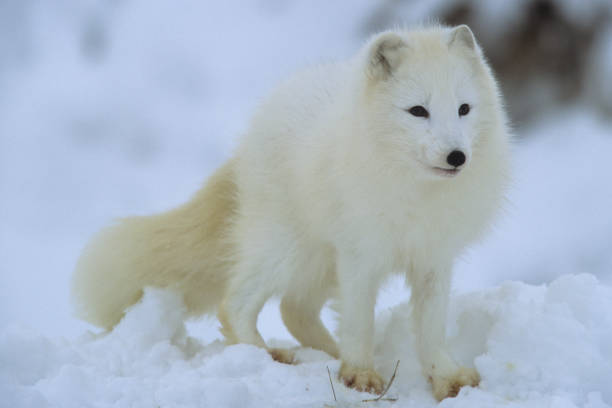arcticfox: (386, 34, 502, 212)
